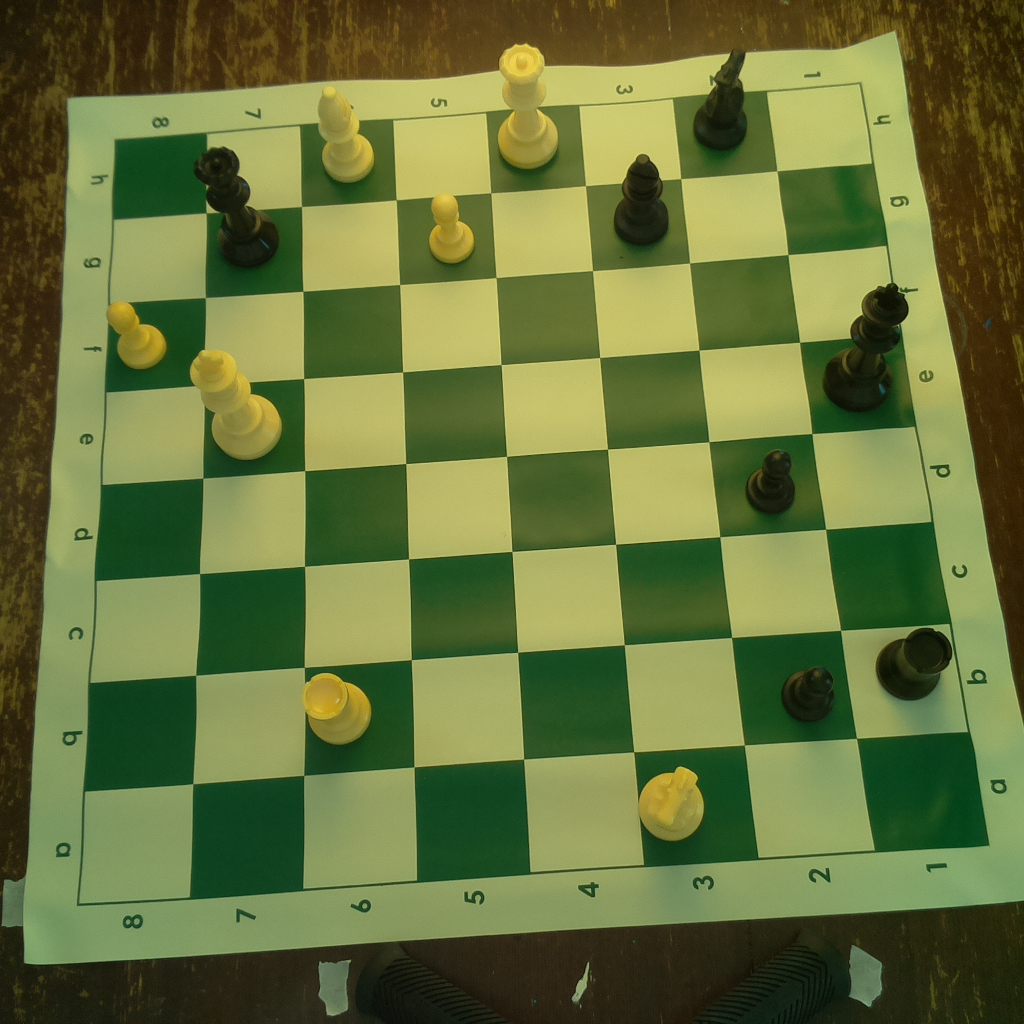black_bishop: (610, 151, 672, 244)
black_king: (823, 275, 912, 413)
black_knight: (689, 44, 757, 152)
black_pawn: (741, 443, 802, 518), (777, 660, 840, 725)
black_queen: (194, 143, 283, 270)
black_rook: (871, 622, 954, 708)
file_a: (76, 734, 992, 902)
file_b: (84, 622, 970, 795)
file_c: (89, 519, 951, 682)
file_d: (97, 428, 932, 584)
file_e: (103, 335, 918, 486)
file_f: (106, 244, 907, 396)
file_g: (106, 162, 888, 305)
file_h: (112, 84, 871, 219)
outline: (77, 83, 996, 910)
rank_1: (767, 86, 990, 853)
rank_2: (675, 92, 876, 860)
rank_3: (581, 95, 759, 869)
rank_4: (485, 105, 645, 871)
rank_5: (393, 113, 531, 886)
rank_6: (301, 121, 420, 890)
rank_7: (188, 126, 302, 899)
rank_8: (77, 135, 208, 906)
white_bishop: (311, 80, 377, 186)
white_king: (184, 343, 285, 466)
white_knight: (632, 760, 708, 844)
white_pawn: (99, 296, 173, 370), (416, 188, 479, 264)
white_queen: (493, 39, 562, 173)
white_rook: (298, 665, 377, 747)
